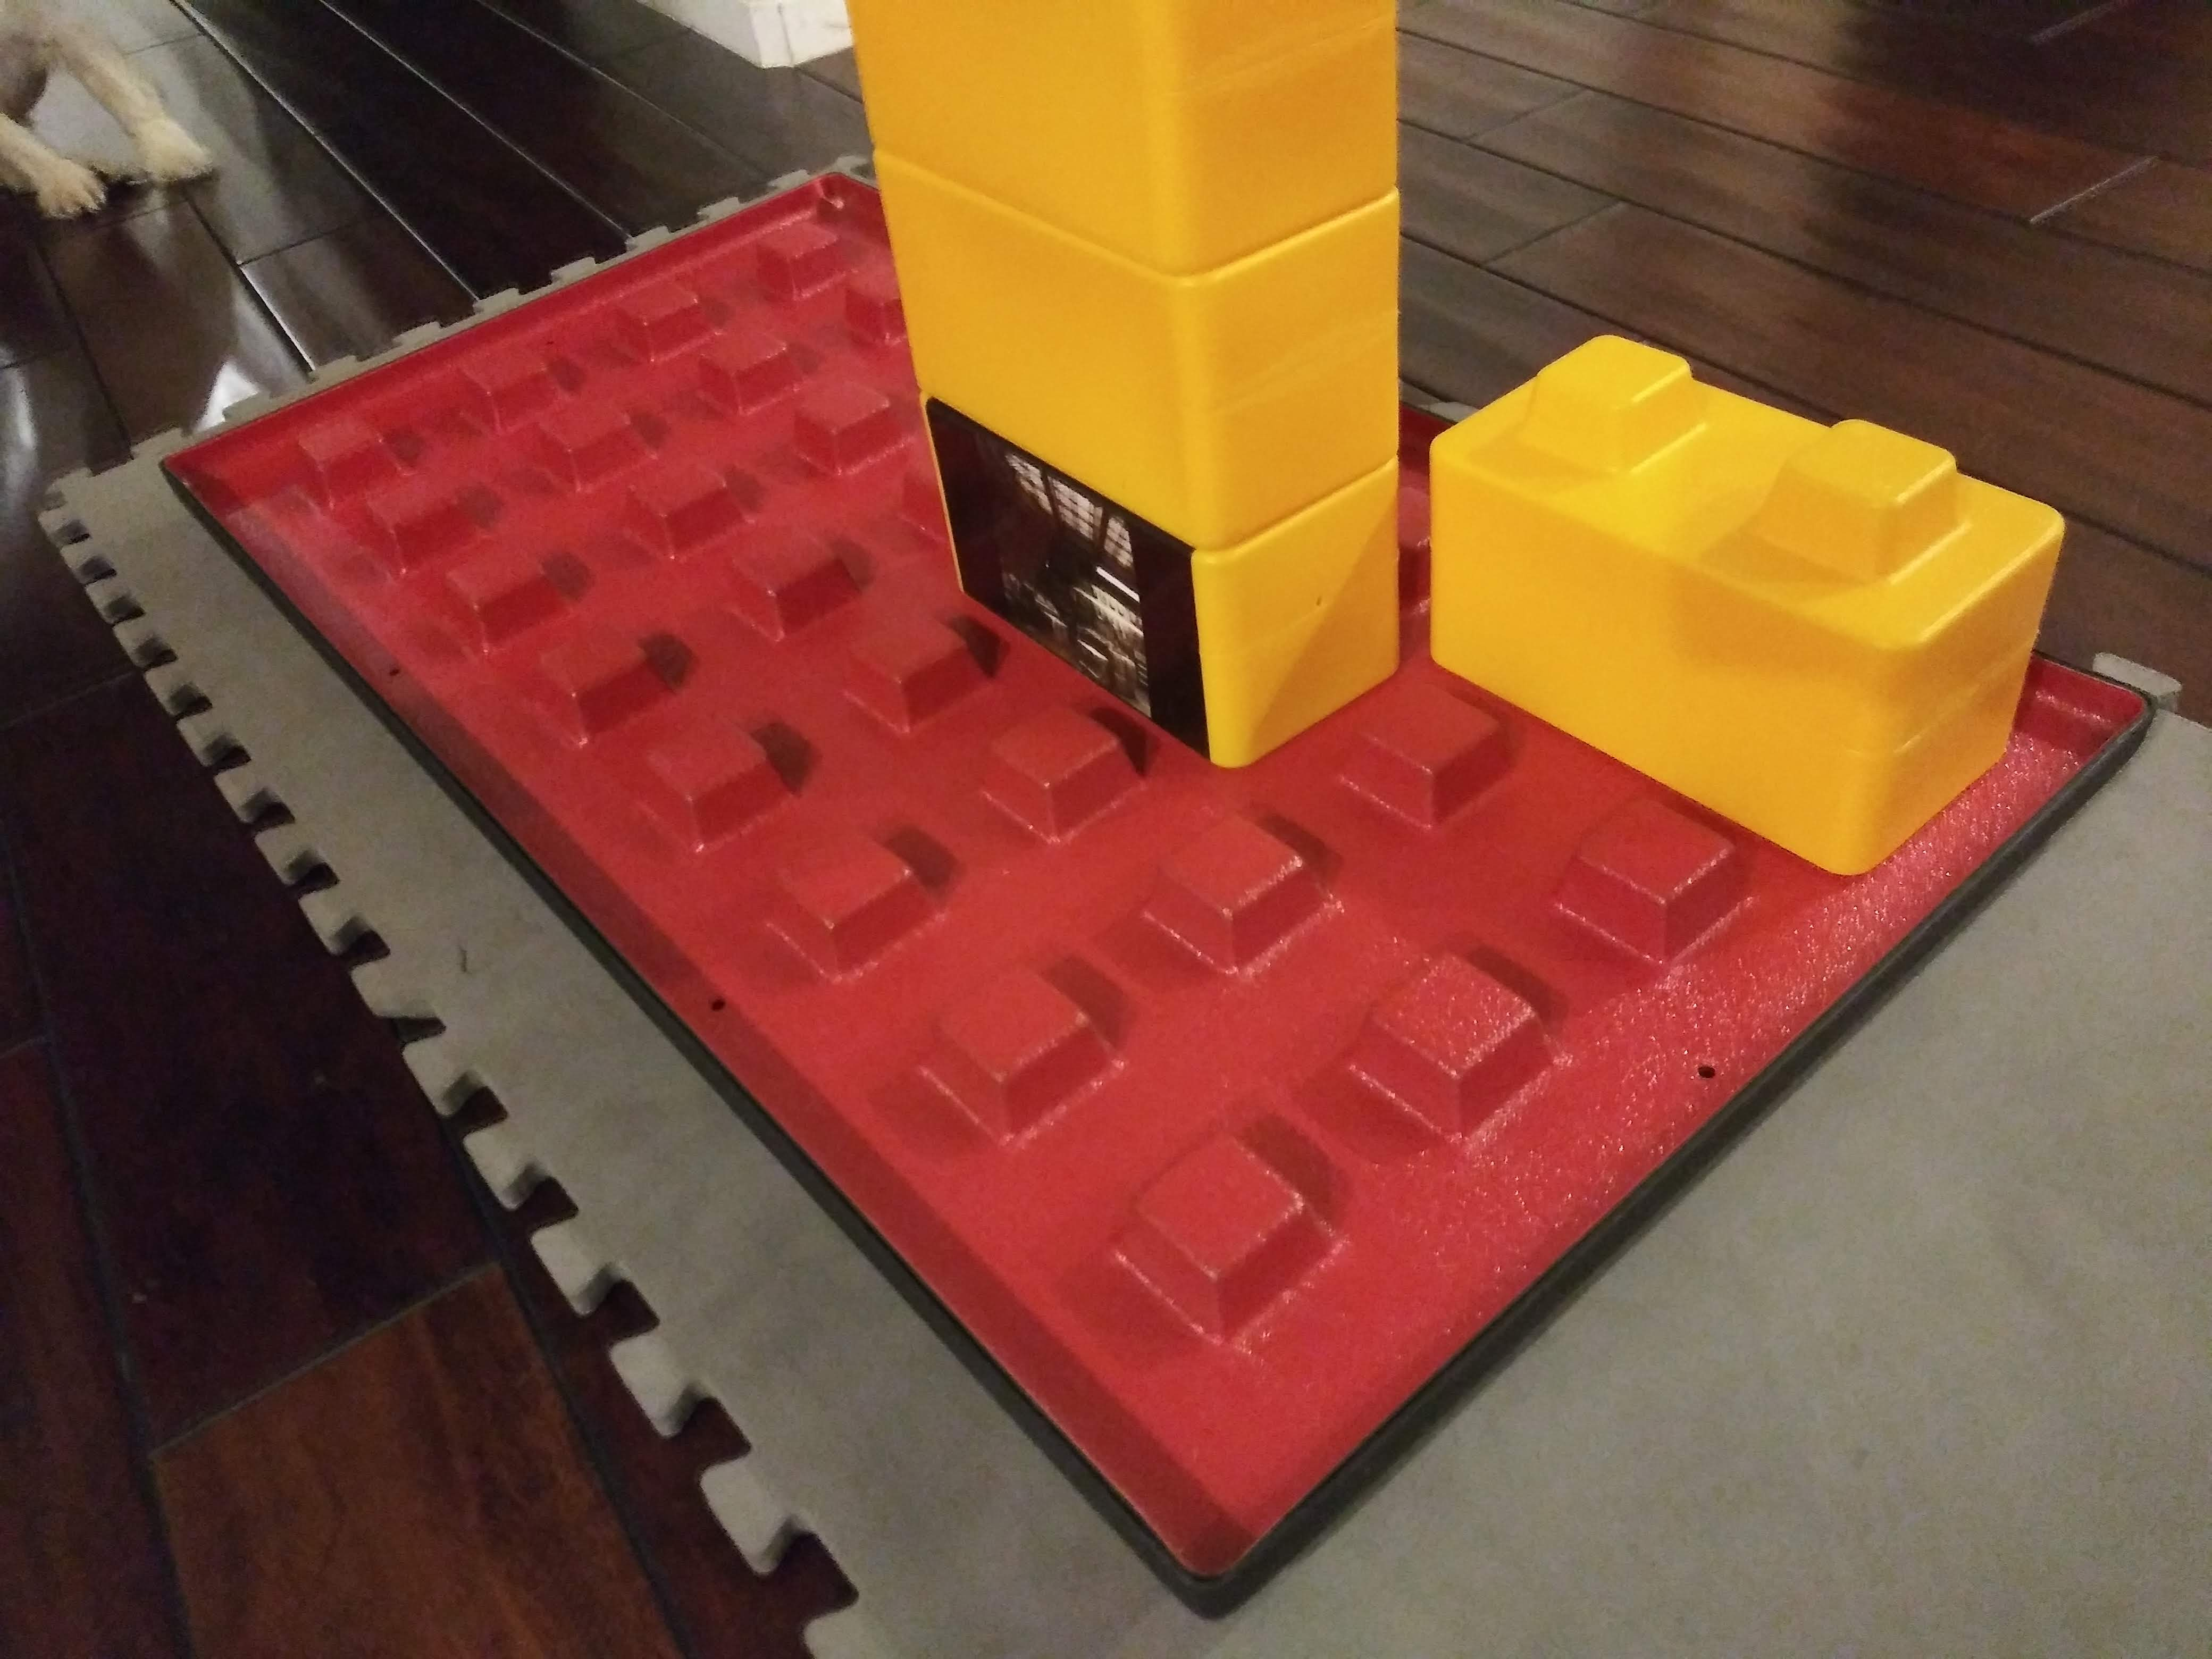red foundation: (188, 251, 2052, 1364)
